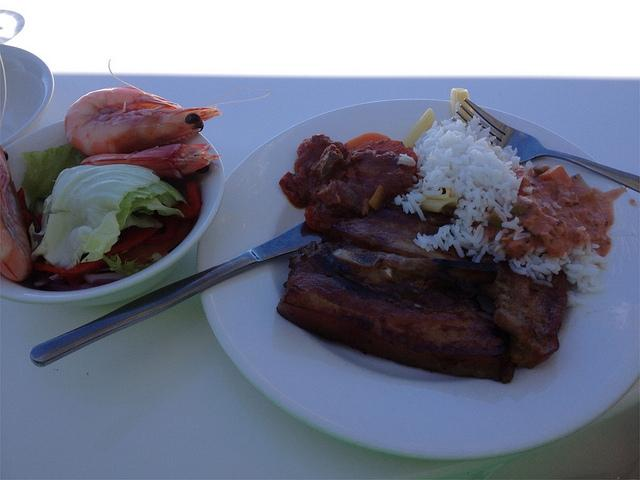lettuce: (29, 164, 187, 270), (20, 142, 91, 215)
tomato: (119, 220, 192, 264), (104, 226, 159, 256), (173, 182, 202, 220), (36, 260, 104, 274)
